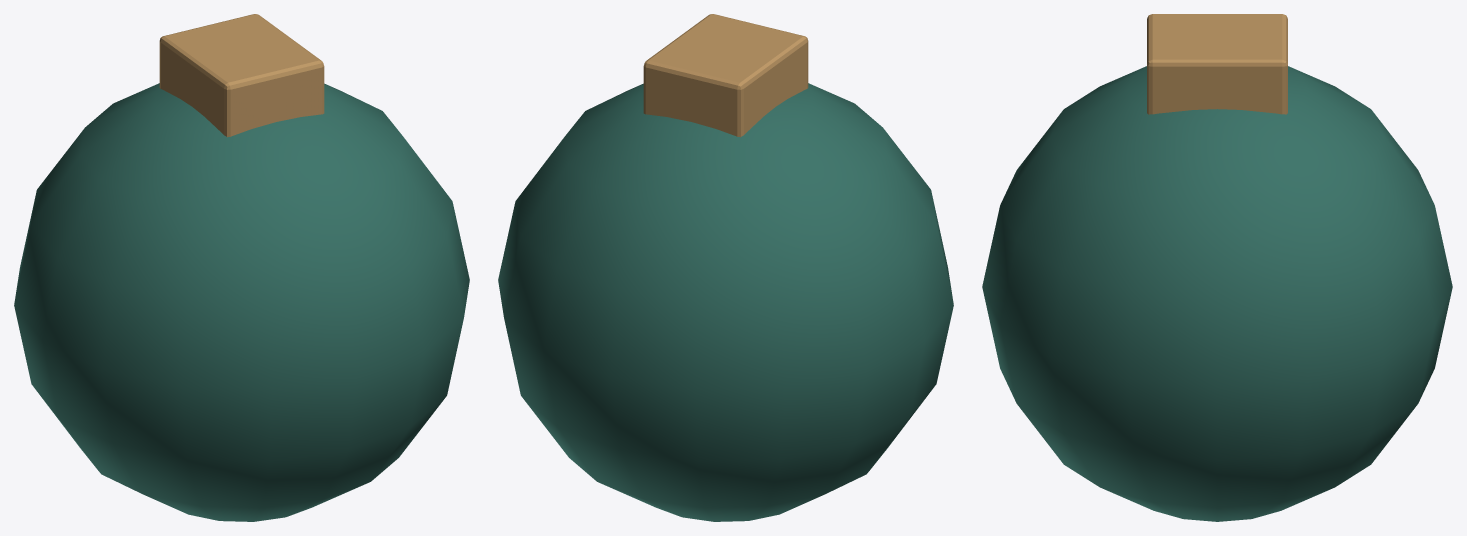
File: SM_Keeper_Sobek_Tail4.fbx
The picture shows the model from 3 angles, left to right: view 1: azimuth 30°, elevation 25°; view 2: azimuth 150°, elevation 25°; view 3: azimuth 270°, elevation 25°; orthographic projection. The views are drawn at different scales.
Parts seen in each view (by area): view 1: SM_Keeper_Sobek_Tail4; view 2: SM_Keeper_Sobek_Tail4; view 3: SM_Keeper_Sobek_Tail4.
Boxes of the visible parts, left/top/right/bottom form: SM_Keeper_Sobek_Tail4: left=14, top=14, right=469, bottom=521; SM_Keeper_Sobek_Tail4: left=498, top=14, right=953, bottom=521; SM_Keeper_Sobek_Tail4: left=982, top=14, right=1452, bottom=521.
Size of the model in its own units: 2 by 2.17 by 2.
